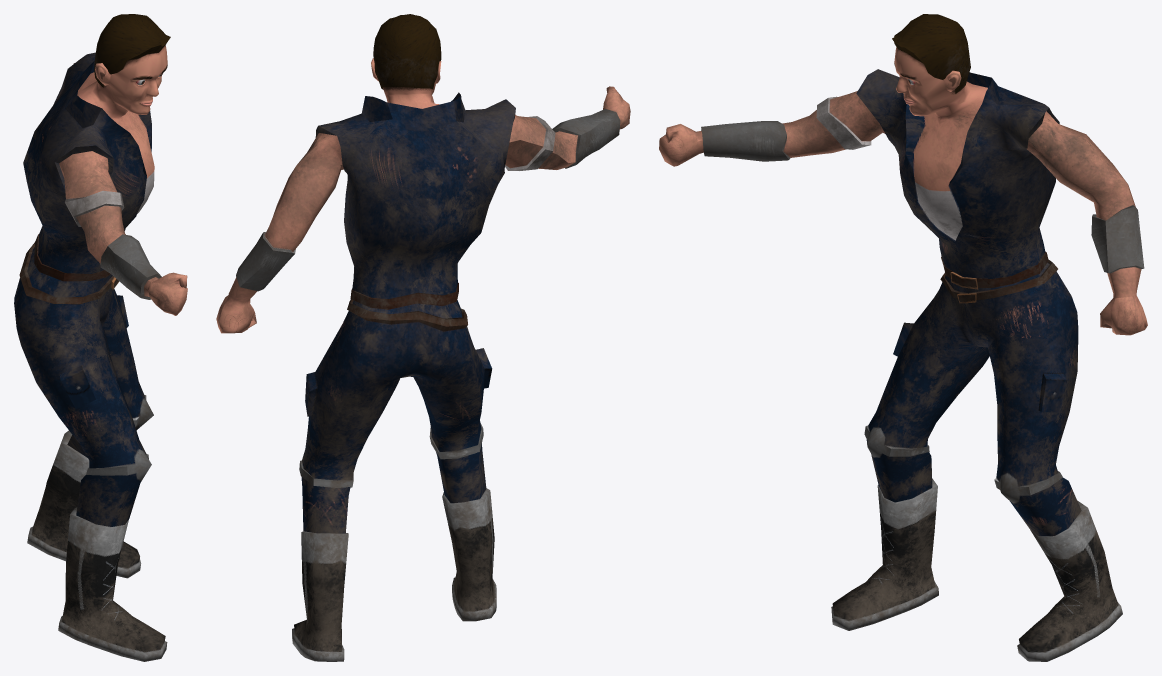
The model's file is Anim_abrir_puerta_ok_jugador.0024.obj.
3 renders of one model, left to right at view 1: azimuth 30°, elevation 25°; view 2: azimuth 150°, elevation 25°; view 3: azimuth 270°, elevation 25°, orthographic. The views are drawn at different scales.
Visible parts, largest first — view 1: polySurface1; view 2: polySurface1; view 3: polySurface1.
Boxes of the visible parts, x1=… form: polySurface1: x1=14, y1=14, x2=187, y2=661; polySurface1: x1=216, y1=14, x2=630, y2=661; polySurface1: x1=659, y1=14, x2=1147, y2=661.
Bounding box in the file's own units: 3.16 × 9.23 × 6.63.
